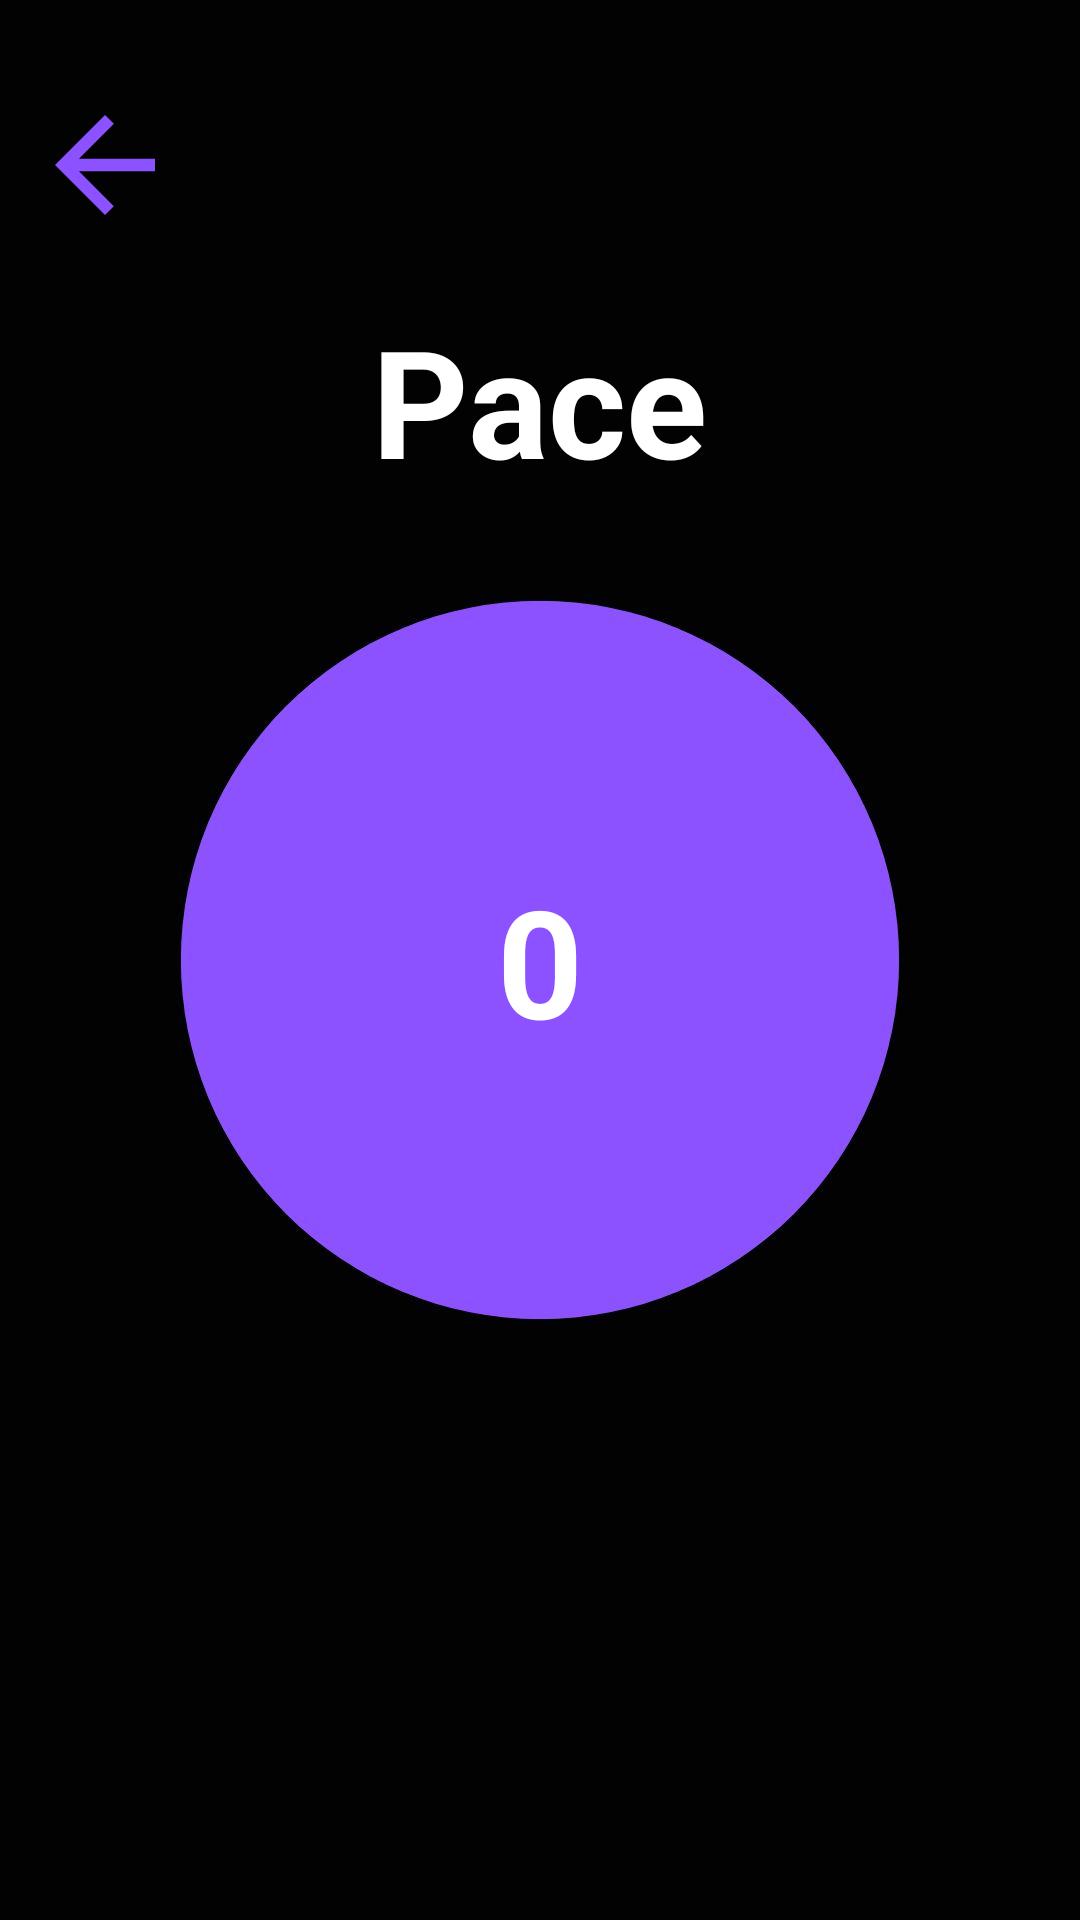

Where to tap for icons on this 1080px x 1920px app screen, as (x,y):
arrow back: (105,165)
